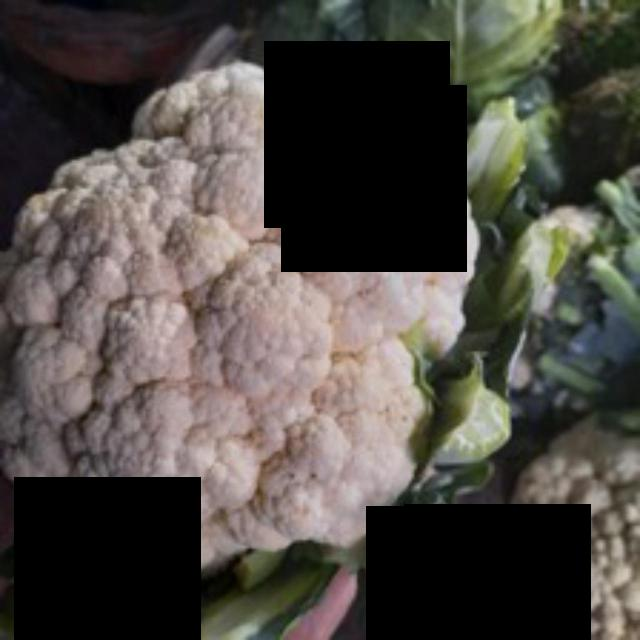cauliflower: (3, 64, 478, 600)
